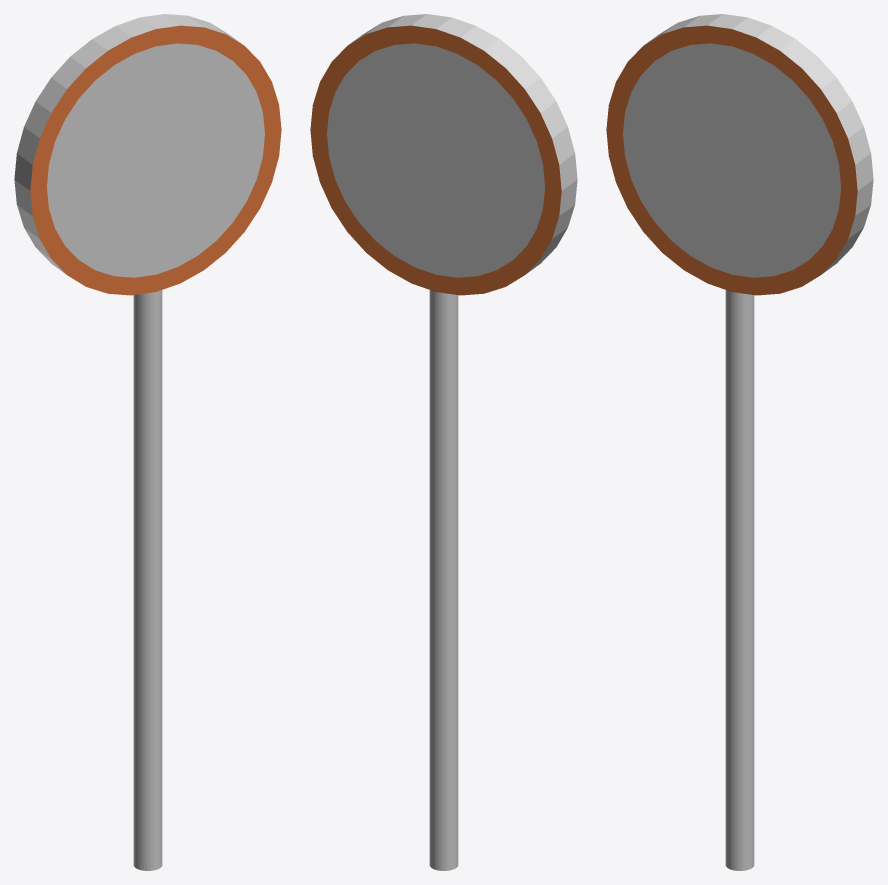
The picture shows the model from 3 angles, left to right: view 1: azimuth 30°, elevation 25°; view 2: azimuth 150°, elevation 25°; view 3: azimuth 330°, elevation 25°; orthographic projection.
Parts seen in each view (by area): view 1: 円柱; view 2: 円柱; view 3: 円柱.
Part boxes in pixels (x1,y1,x2,y2): 円柱: (14,14,281,870); 円柱: (310,14,577,870); 円柱: (606,14,873,870).
Bounding box in the file's own units: 89.4 × 286 × 9.79.
